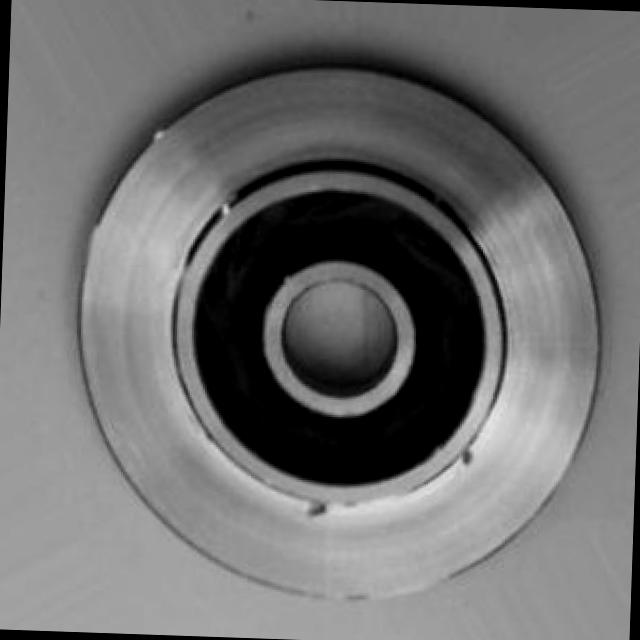Defect: (304, 496, 345, 532)
